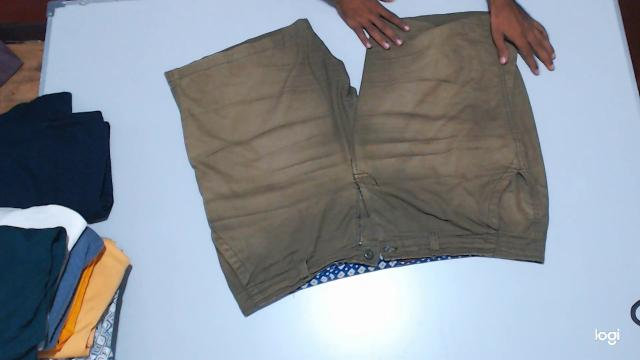new-garment: (165, 12, 548, 315)
